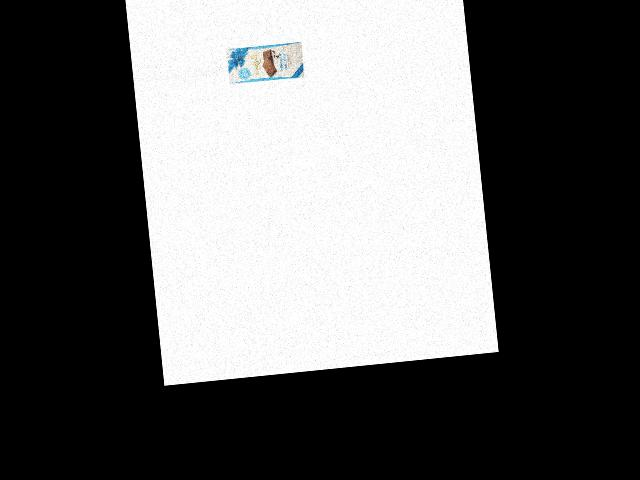chocolate: (224, 36, 306, 87)
